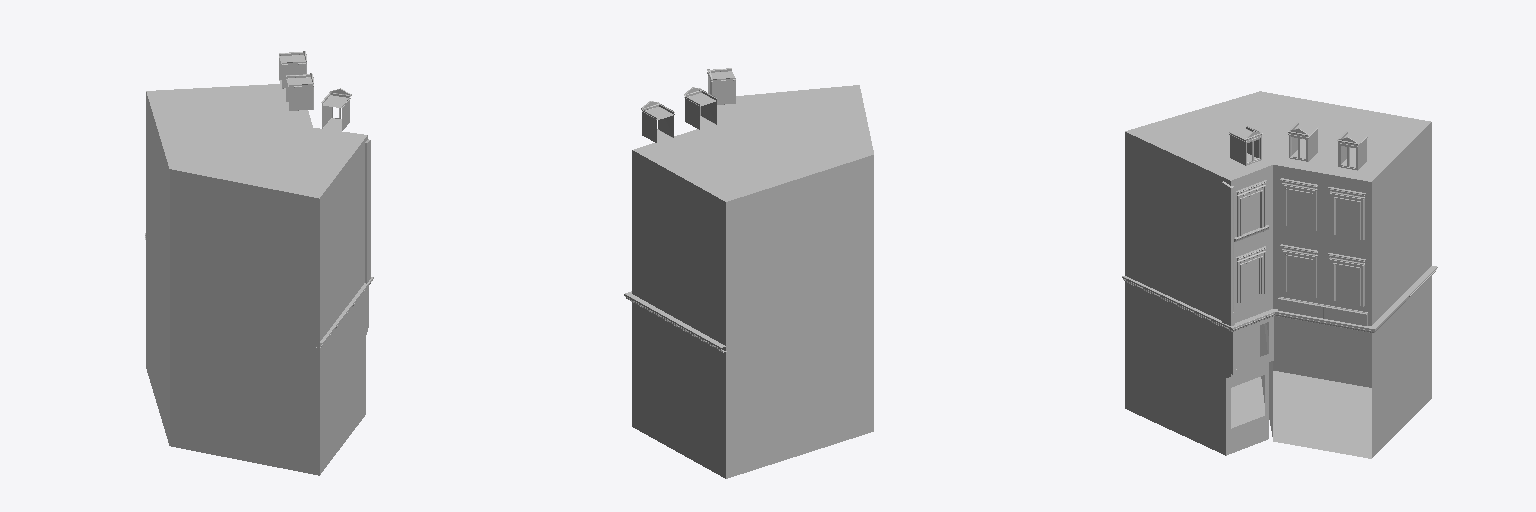
The picture shows the model from 3 angles: view 1: azimuth 30°, elevation 25°; view 2: azimuth 150°, elevation 25°; view 3: azimuth 270°, elevation 25°; orthographic projection.
Visible parts, largest first — view 1: Bistro_Research_Exterior_Paris_Building_08_paris_buildi_544fc54; view 2: Bistro_Research_Exterior_Paris_Building_08_paris_buildi_544fc54; view 3: Bistro_Research_Exterior_Paris_Building_08_paris_buildi_544fc54.
Part boxes in pixels (bbox=[...]): Bistro_Research_Exterior_Paris_Building_08_paris_buildi_544fc54: bbox=[145, 51, 373, 475]; Bistro_Research_Exterior_Paris_Building_08_paris_buildi_544fc54: bbox=[624, 68, 873, 478]; Bistro_Research_Exterior_Paris_Building_08_paris_buildi_544fc54: bbox=[1122, 91, 1437, 458].
Size of the model in its own units: 19.79 by 31.29 by 28.04.